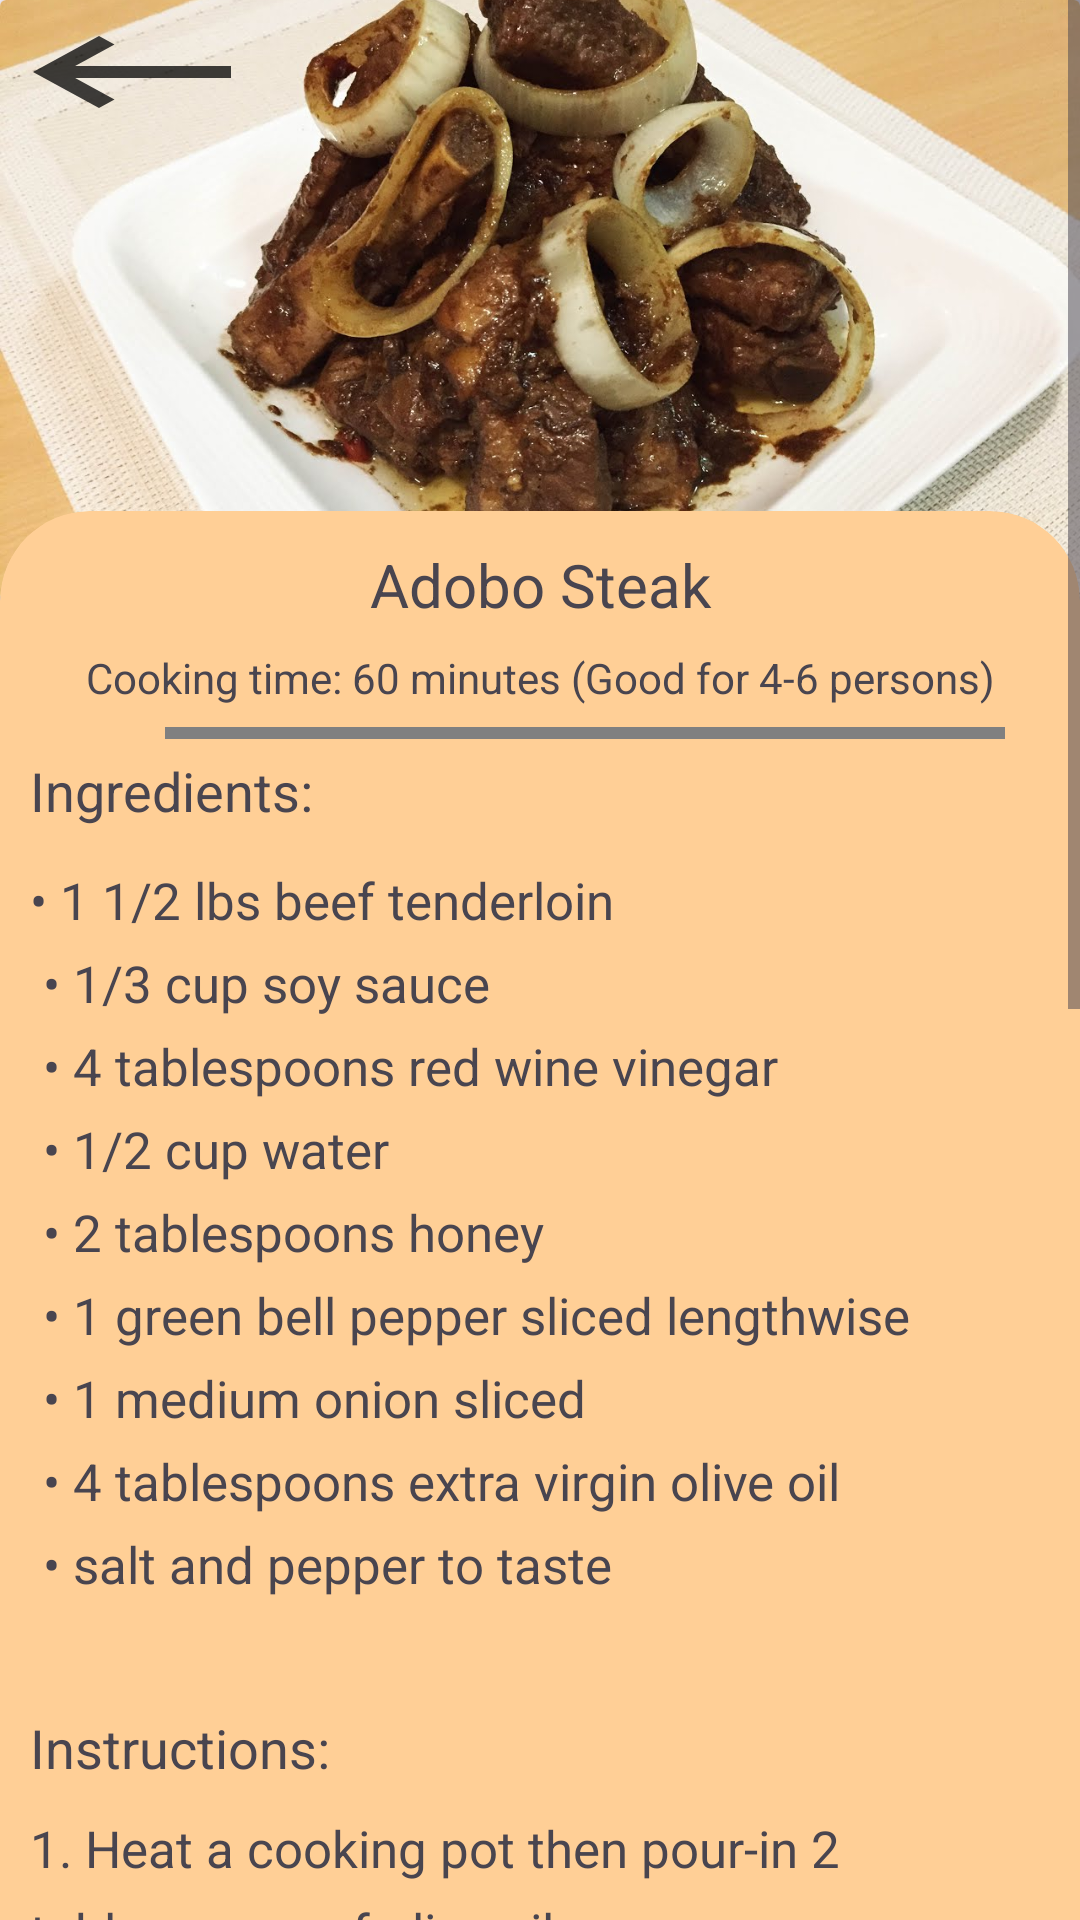

Icons on this 1080px x 1920px Android screen, each with its box as (x1, y1, x2, y2):
keyboard backspace: (0, 0, 233, 121)
